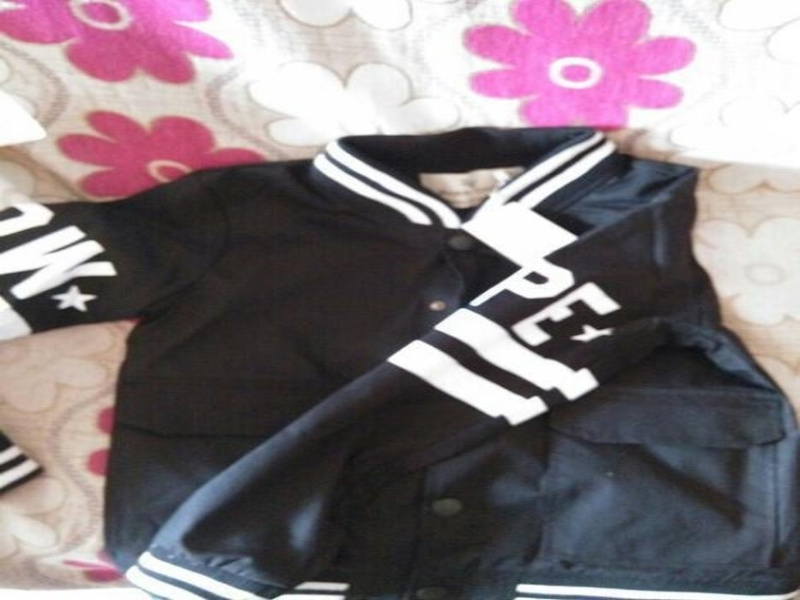long_sleeved_shirt: (0, 118, 795, 599)
